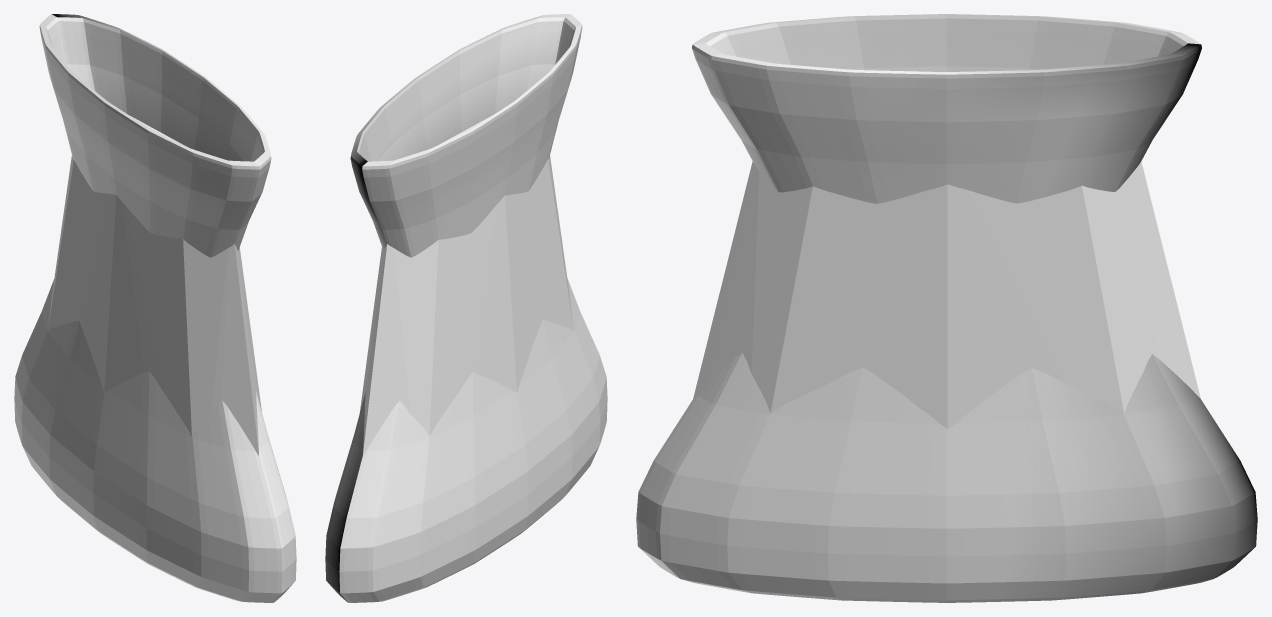
Rendered from vase_0.glb.
3 renders of one model, left to right at view 1: azimuth 30°, elevation 25°; view 2: azimuth 150°, elevation 25°; view 3: azimuth 270°, elevation 25°, orthographic. The views are drawn at different scales.
Visible parts, largest first — view 1: vase_0; view 2: vase_0; view 3: vase_0.
Part boxes in pixels (left/top/right/bottom): vase_0: left=14, top=14, right=296, bottom=602; vase_0: left=325, top=14, right=607, bottom=602; vase_0: left=636, top=14, right=1257, bottom=602.
Bounding box in the file's own units: 0.0687 × 0.2282 × 0.2433.
Materials: 1 (1 with a texture image).
